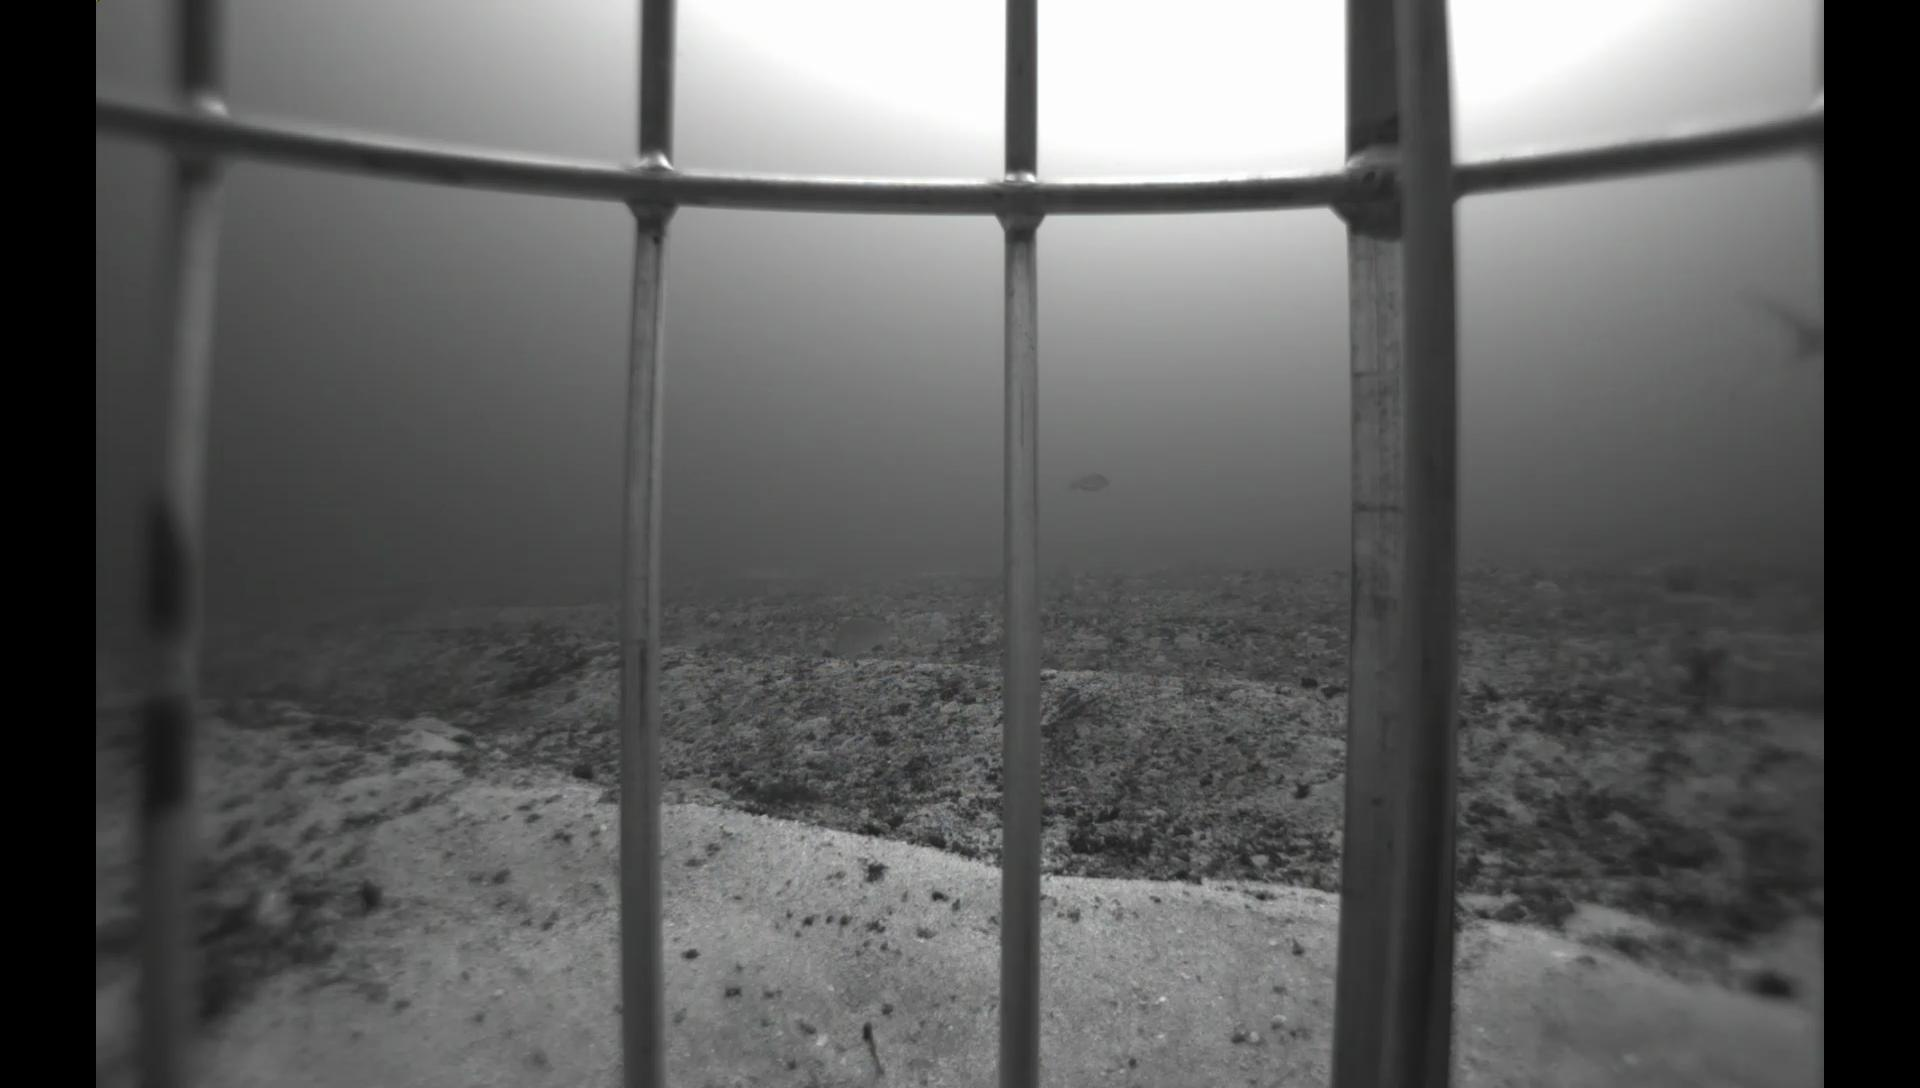CALAMUS-170210600: (829, 607, 909, 661), (1039, 560, 1077, 600)
RHOMBOPLITESAURORUBENS-170152001: (1060, 468, 1113, 496)
SERIOLARIVOLIANA-170113105: (1722, 266, 1822, 438)
